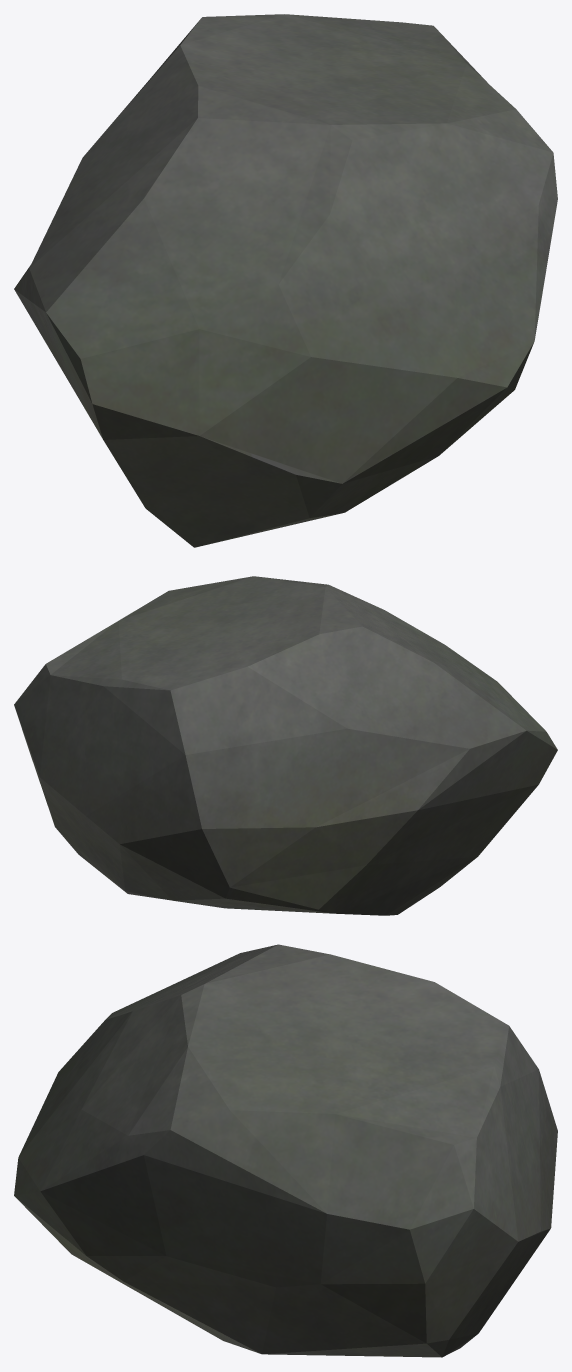
File: Rock_Flat_02.FBX
The picture shows the model from 3 angles, top to bottom: view 1: azimuth 30°, elevation 25°; view 2: azimuth 150°, elevation 25°; view 3: azimuth 270°, elevation 25°; orthographic projection. The views are drawn at different scales.
Parts seen in each view (by area): view 1: Rock_Flat_02; view 2: Rock_Flat_02; view 3: Rock_Flat_02.
Boxes of the visible parts, <box> form: Rock_Flat_02: <box>14,14,557,547</box>; Rock_Flat_02: <box>14,576,557,915</box>; Rock_Flat_02: <box>14,944,557,1357</box>.
Bounding box in the file's own units: 111 × 103 × 74.96.
